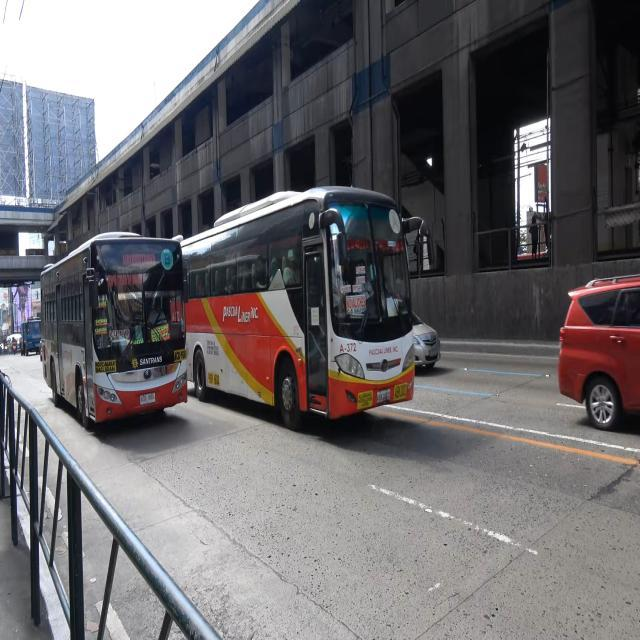bus: (176, 181, 415, 430), (37, 229, 190, 436)
car: (558, 270, 640, 432), (412, 307, 442, 378)
truck: (18, 316, 42, 356)
